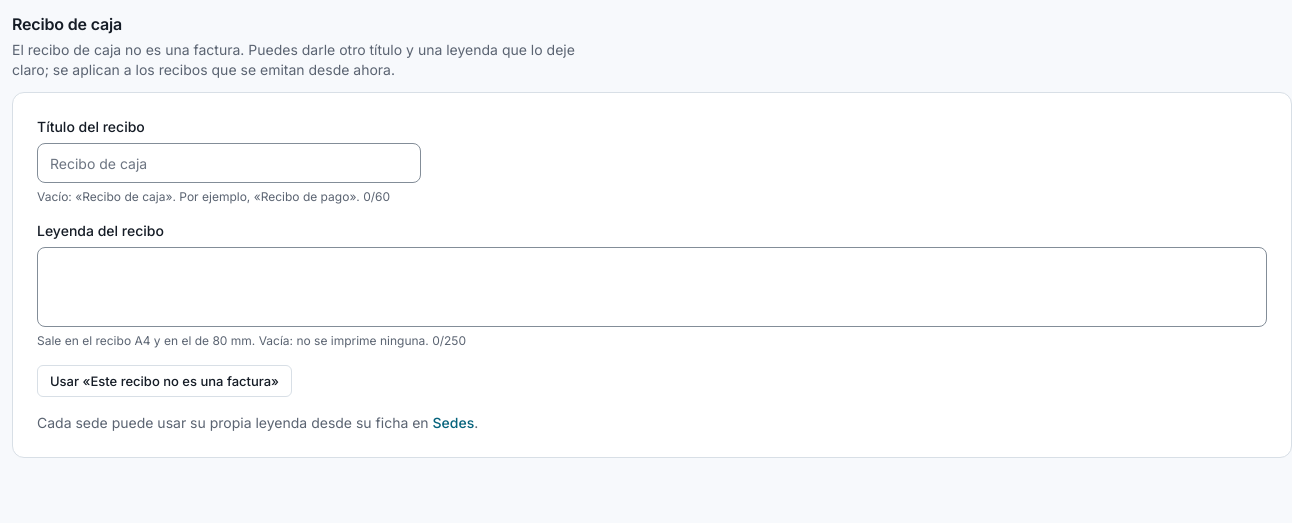
Test: Ajustes › Caja › Recibo de caja (DX-515) › la sugerencia rellena la leyenda; guardar manda los textos recortados (vacío = null)
Step 1. Click the button "Usar «Este recibo no es una factura»" → (164, 381), box [37,365,292,397]
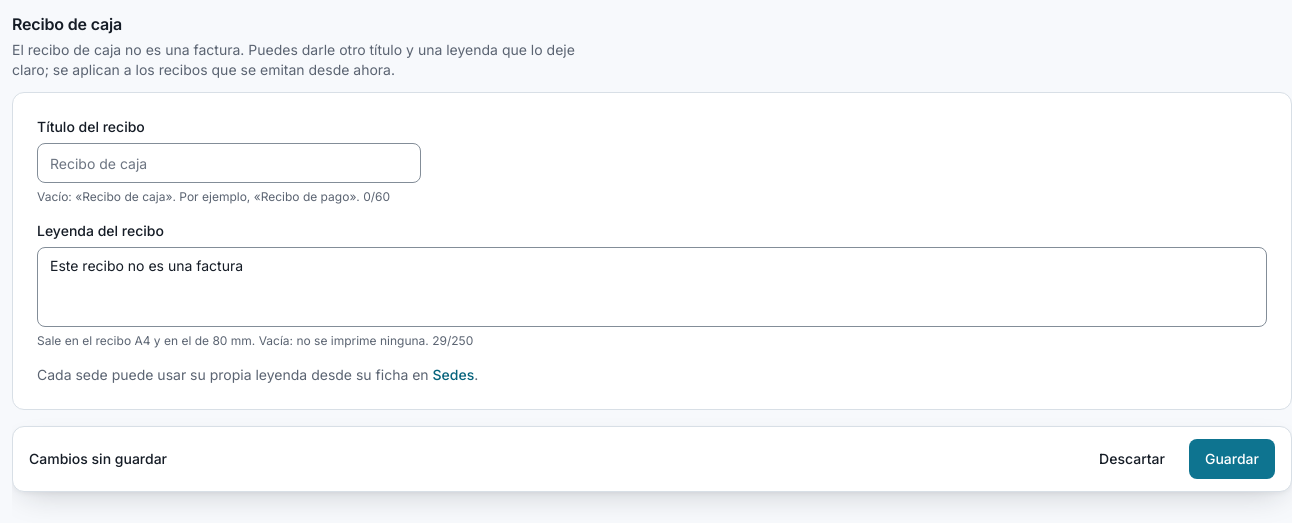
expect the text box labelled "Leyenda del recibo" holds "Este recibo no es una factura": met, box [37,247,1267,327]
Step 2. Type "  Recibo de pago " into the field labelled "Título del recibo" → (229, 163), box [37,143,421,183]
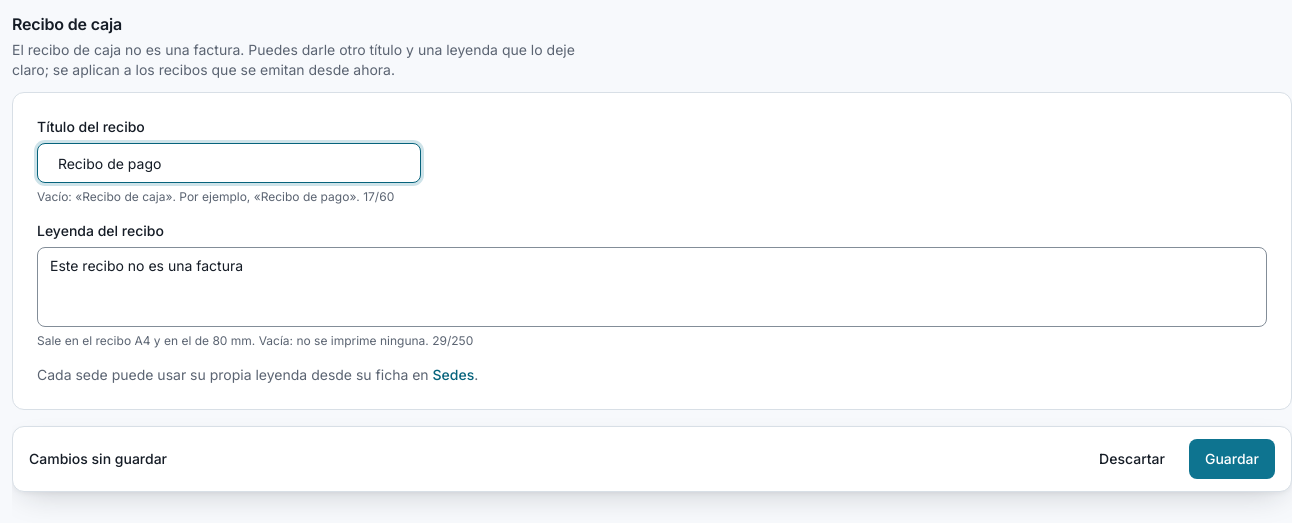
expect the element "Cambios sin guardar" is shown: met, box [12,426,1291,492]
Step 3. Click the button with aria-label "Guardar el título y la leyenda del recibo" → (1232, 459), box [1189,439,1275,479]
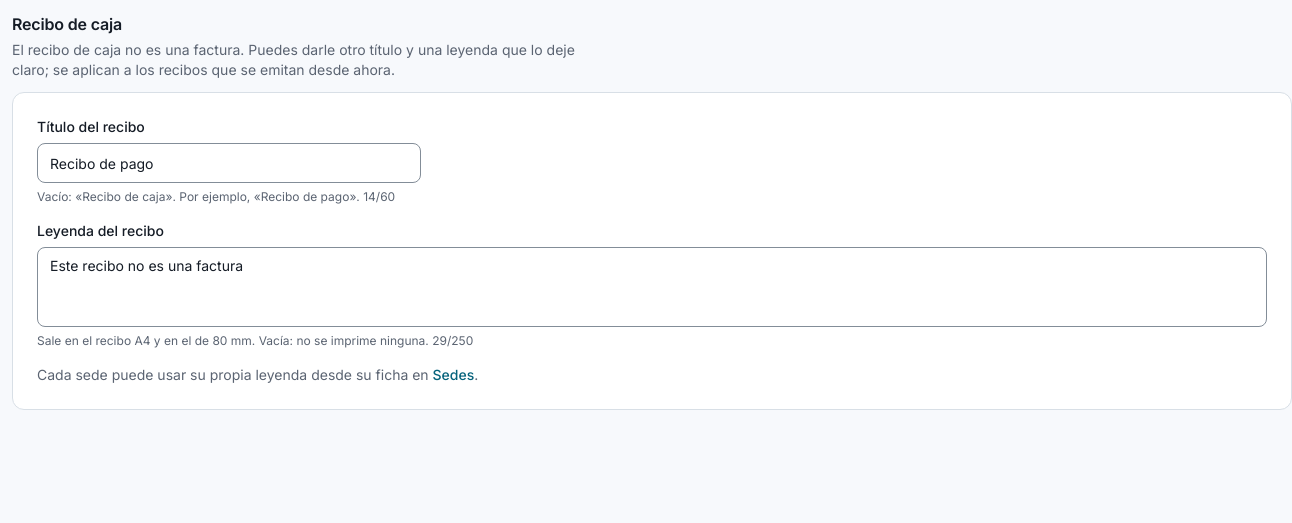
expect the text "Cambios sin guardar" is gone: met
